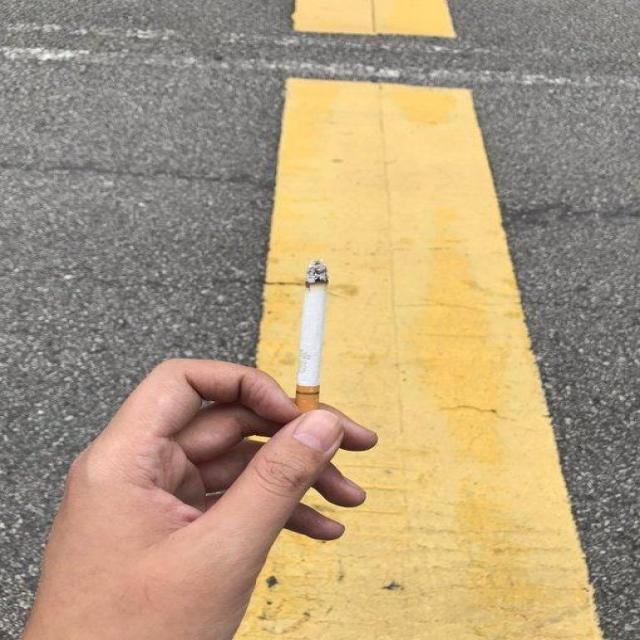Cigarette: (290, 251, 336, 410)
